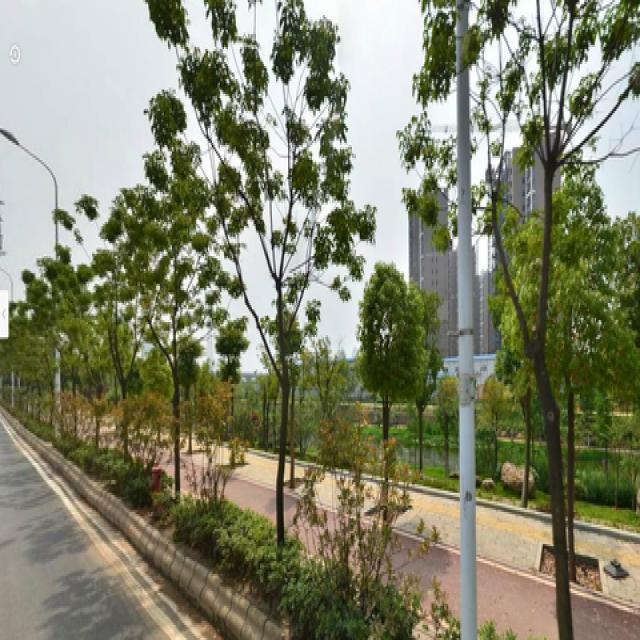cinn: (364, 269, 423, 467)
sali: (198, 30, 334, 533)
